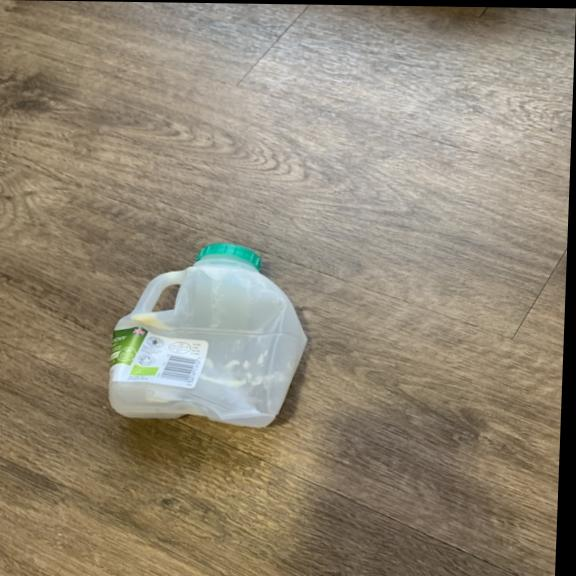Plastik: (100, 238, 313, 439)
